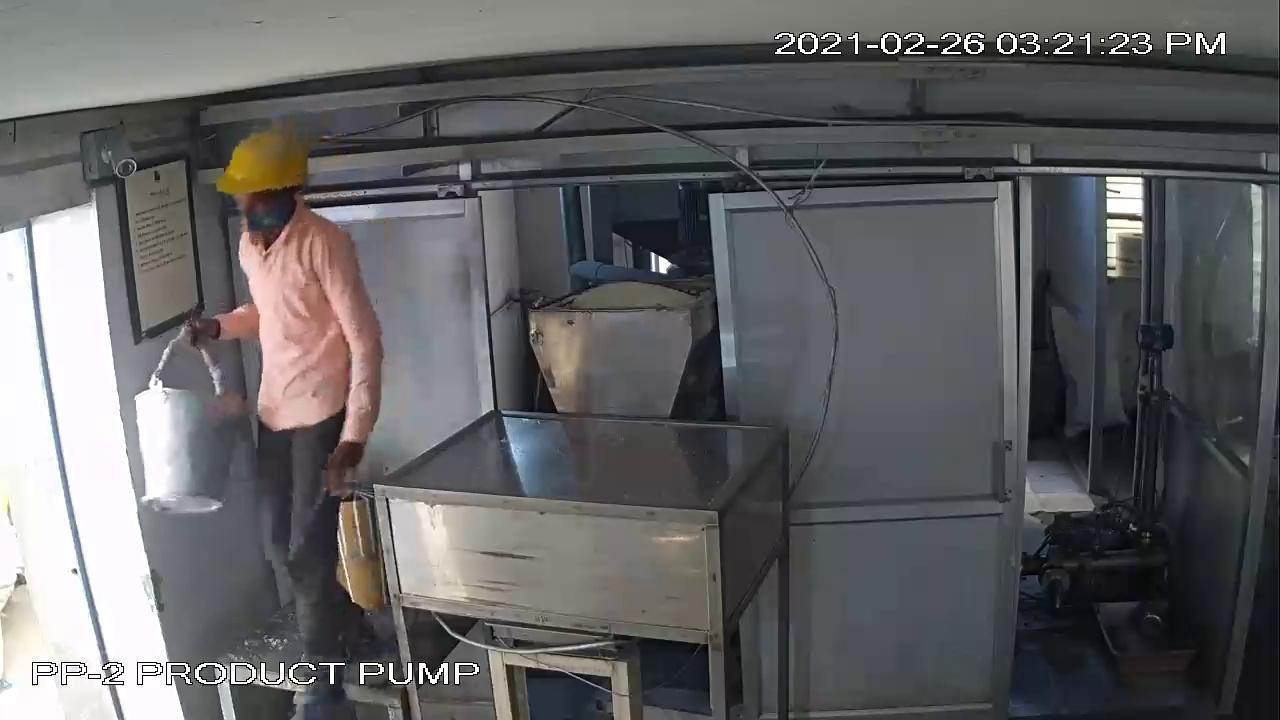helmet: (197, 127, 321, 235)
